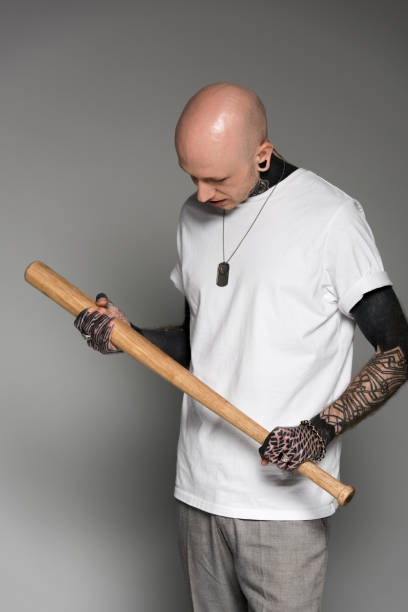bita: (32, 262, 358, 494)
